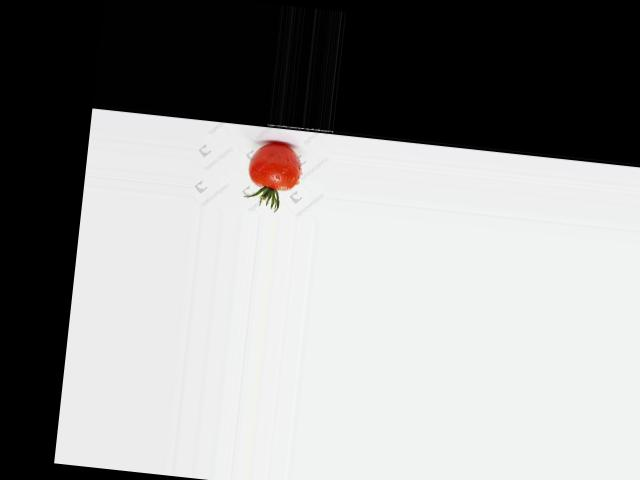tomato: (246, 139, 302, 191)
